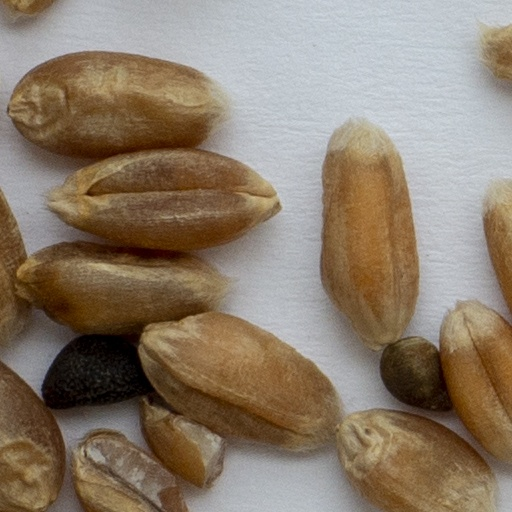Wheat-grain-damaged-poly: (68, 428, 190, 511), (138, 398, 224, 486)
